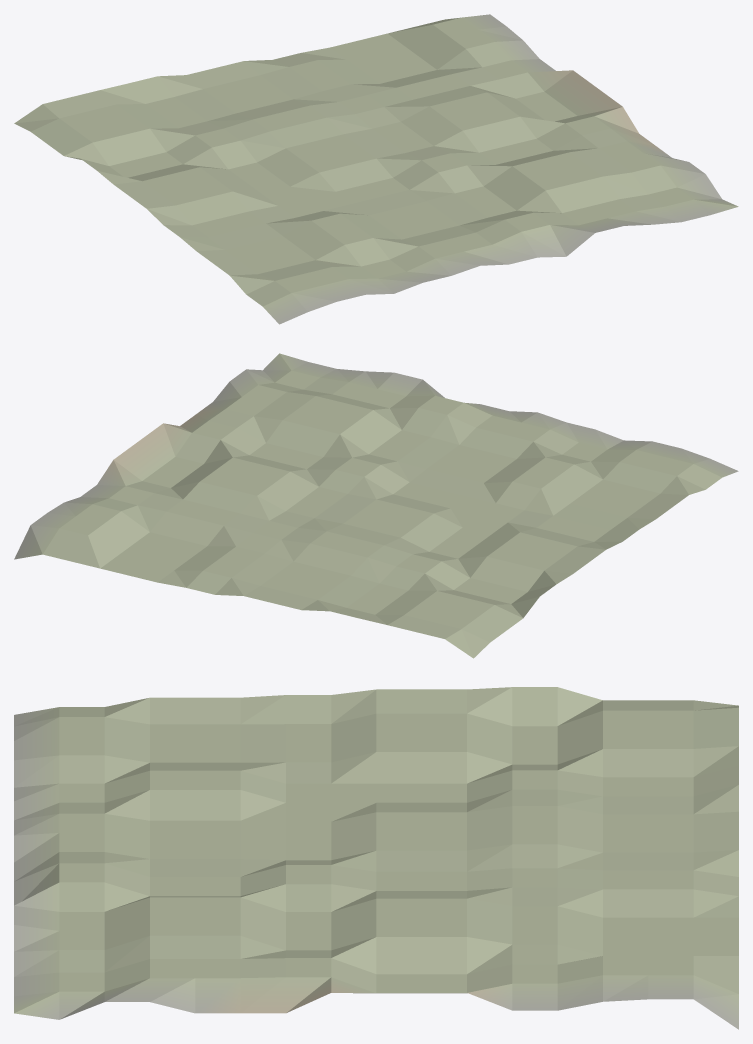
The picture shows the model from 3 angles, top to bottom: view 1: azimuth 30°, elevation 25°; view 2: azimuth 150°, elevation 25°; view 3: azimuth 270°, elevation 25°; orthographic projection. The views are drawn at different scales.
Bounding box in the file's own units: 32 × 1.8 × 32.
